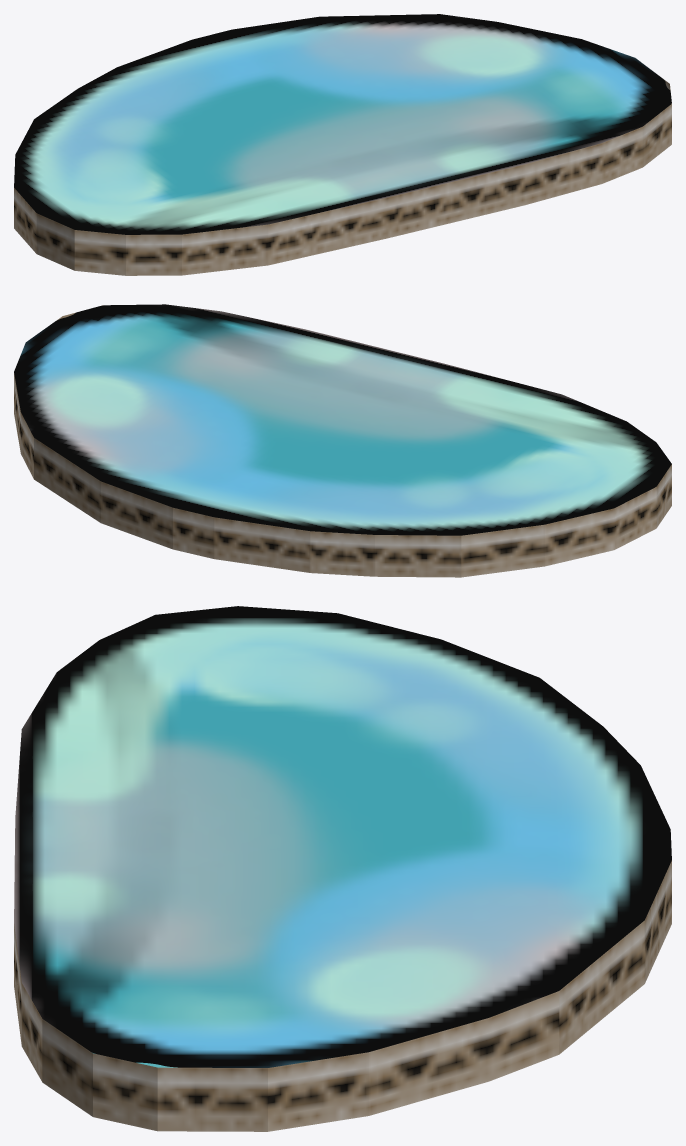
File: slime.fbx
The picture shows the model from 3 angles, top to bottom: view 1: azimuth 30°, elevation 25°; view 2: azimuth 150°, elevation 25°; view 3: azimuth 270°, elevation 25°; orthographic projection. The views are drawn at different scales.
Visible parts, largest first — view 1: Cube; view 2: Cube; view 3: Cube.
Boxes of the visible parts, x1=… form: Cube: x1=14, y1=14, x2=671, y2=275; Cube: x1=14, y1=304, x2=671, y2=577; Cube: x1=14, y1=606, x2=671, y2=1131.
Size of the model in its own units: 62.13 by 4 by 37.39.
